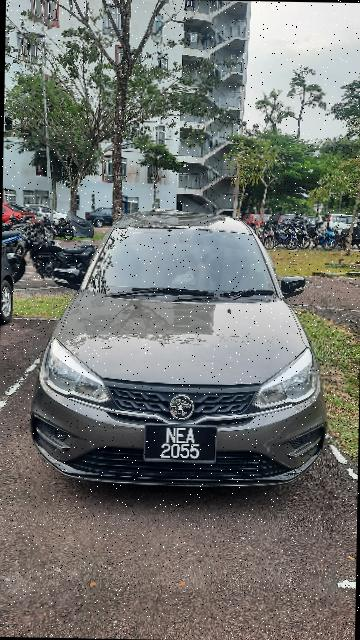License_Plate: (146, 424, 218, 462)
car: (23, 205, 334, 495)
